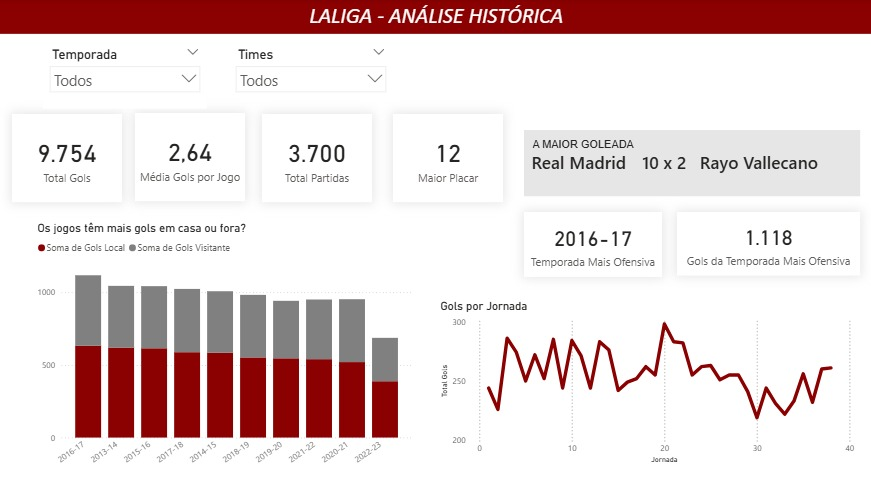

Layout of this report page (visuals, bound fields, positions):
{"tool":"powerbi","page":{"name":"Visão Geral da La Liga","canvas":[1280,720],"ordinal":0},"visuals":[{"type":"card","fields":{"Values":["Partidas LaLiga.Total Partidas"]},"box":[384.7,167.8,161,128.8],"z":0},{"type":"card","fields":{"Values":["Partidas LaLiga.Total Gols"]},"box":[18.6,167.8,161,128.8],"z":1000},{"type":"card","fields":{"Values":["Partidas LaLiga.Média Gols por Jogo"]},"box":[198.3,167,161,128.8],"z":2000},{"type":"card","fields":{"Values":["Partidas LaLiga.Maior Placar"]},"box":[576.3,167.8,161,128.8],"z":3000},{"type":"tableEx","fields":{"Values":["Partidas LaLiga.Equipe Local","Partidas LaLiga.Placar","Partidas LaLiga.Equipe Visitante"]},"box":[768,192,448,96],"z":4000},{"type":"lineChart","title":"Gols por Jornada","fields":{"Y":["Partidas LaLiga.Total Gols"],"Category":["Partidas LaLiga.Jornada"]},"box":[640.7,439,618.6,245.8],"z":5000},{"type":"columnChart","title":"Os jogos têm mais gols em casa ou fora?","fields":{"Y":["Sum(Partidas LaLiga.Gols Local)","Sum(Partidas LaLiga.Gols Visitante)"],"Category":["Temporadas.Temporada"]},"box":[50.8,325.4,557.6,376.3],"z":6000},{"type":"slicer","fields":{"Values":["Temporadas.Temporada"]},"box":[64,64,240,96],"z":7000},{"type":"slicer","fields":{"Values":["Times.Times"]},"box":[336,64,240,80],"z":8000},{"type":"card","fields":{"Values":["Partidas LaLiga.Temporada Mais Ofensiva"]},"box":[767.8,311.9,201.7,94.9],"z":9000},{"type":"card","fields":{"Values":["Partidas LaLiga.Gols da Temporada Mais Ofensiva"]},"box":[991.5,311.9,267.8,93.2],"z":10000},{"type":"textbox","box":[0,0,1280,48],"z":11000},{"type":"textbox","box":[767.8,196.6,201.7,28.8],"z":12000}]}

Visuals, with their boxes in screenshot pixels (x1, y1, x2, y2), scaled from the page's 1280x720 canvas onto the 871x489 screenshot:
card - Partidas LaLiga.Total Partidas: [262,114,371,201]
card - Partidas LaLiga.Total Gols: [13,114,122,201]
card - Partidas LaLiga.Média Gols por Jogo: [135,113,244,201]
card - Partidas LaLiga.Maior Placar: [392,114,502,201]
tableEx - Partidas LaLiga.Equipe Local x Partidas LaLiga.Placar: [523,130,827,196]
"Gols por Jornada" lineChart: [436,298,857,465]
"Os jogos têm mais gols em casa ou fora?" columnChart: [35,221,414,477]
slicer - Temporadas.Temporada: [44,43,207,109]
slicer - Times.Times: [229,43,392,98]
card - Partidas LaLiga.Temporada Mais Ofensiva: [522,212,660,276]
card - Partidas LaLiga.Gols da Temporada Mais Ofensiva: [675,212,857,275]
textbox: [0,0,870,33]
textbox: [522,134,660,153]
